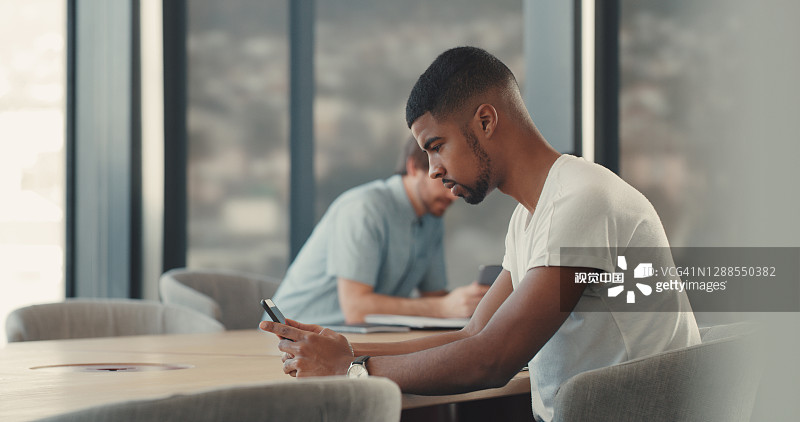reading: (252, 289, 369, 394)
